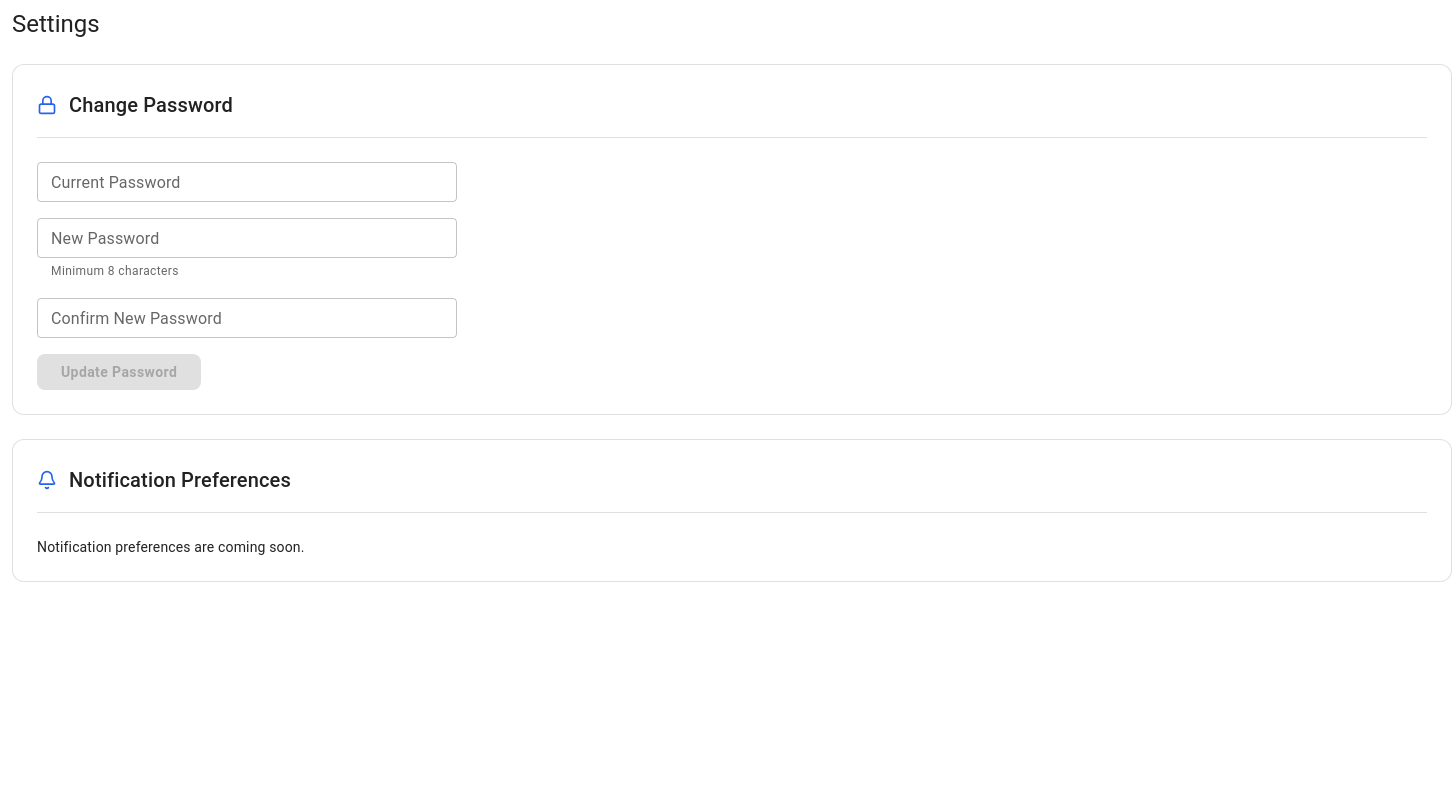
Settings Component › shows error for password less than 8 characters
Type "old12345" into the password field labelled "Current Password" at (247, 182), box [37,162,457,202]
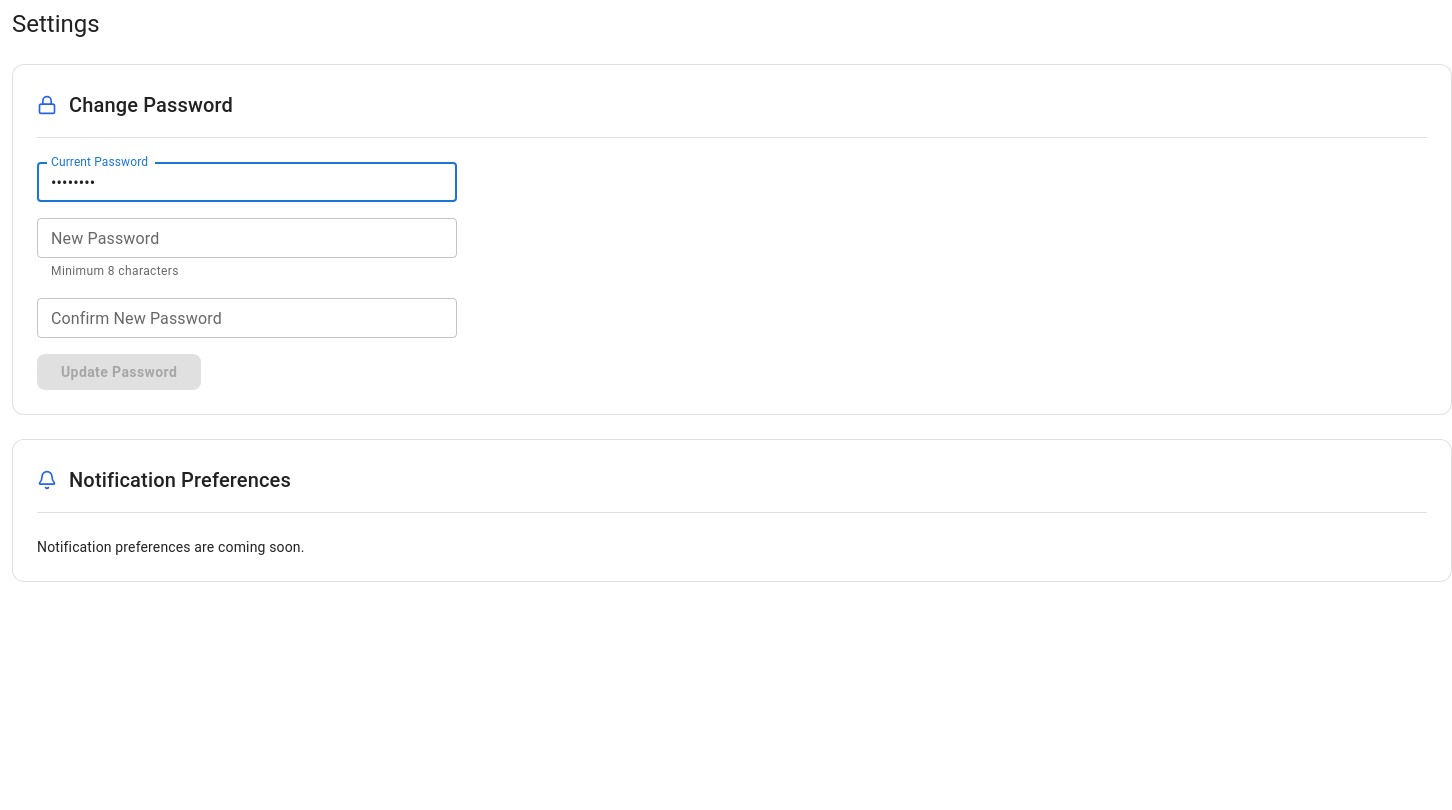
Type "123" into the password field labelled "New Password" at (247, 238), box [37,218,457,258]
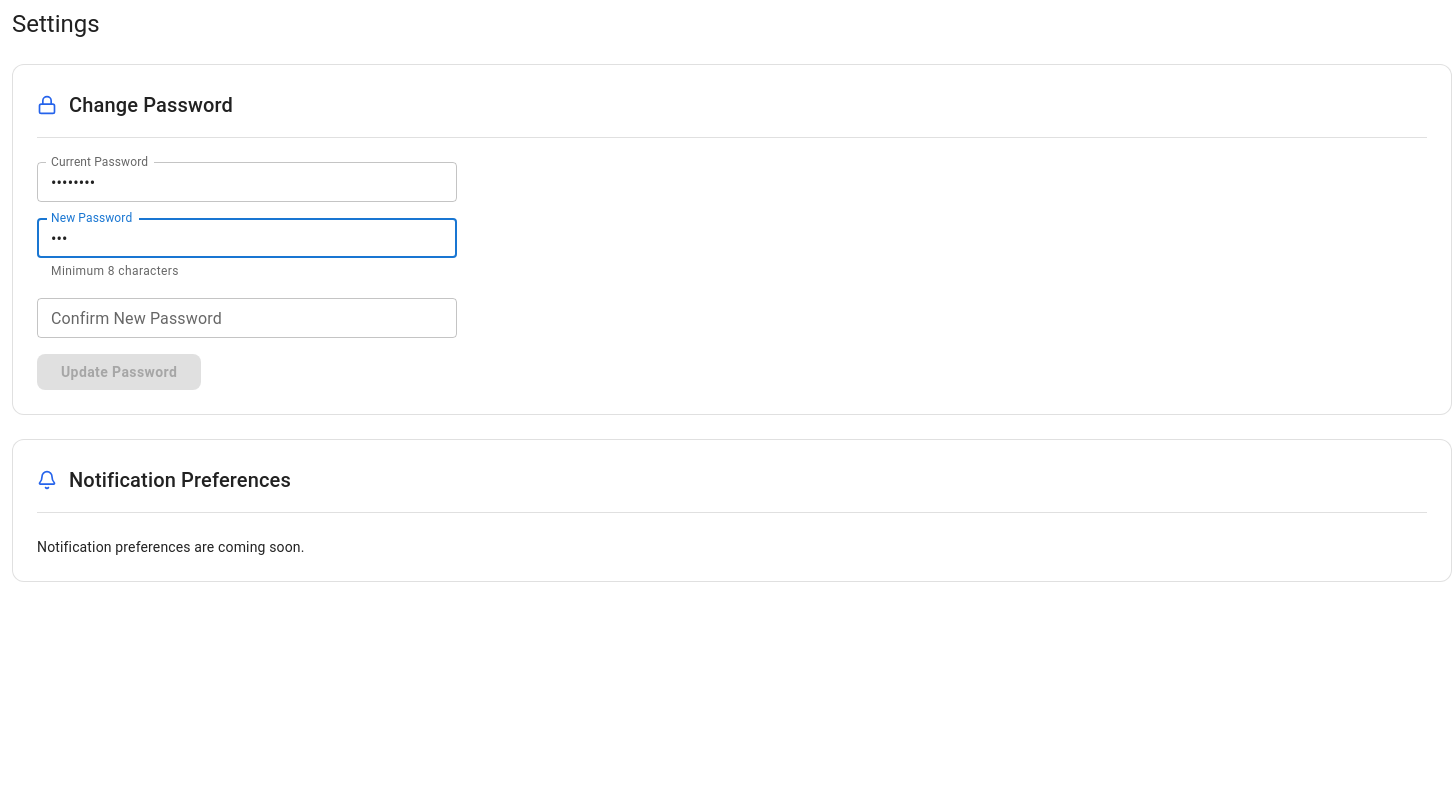
Type "123" into the password field labelled "Confirm New Password" at (247, 318), box [37,298,457,338]
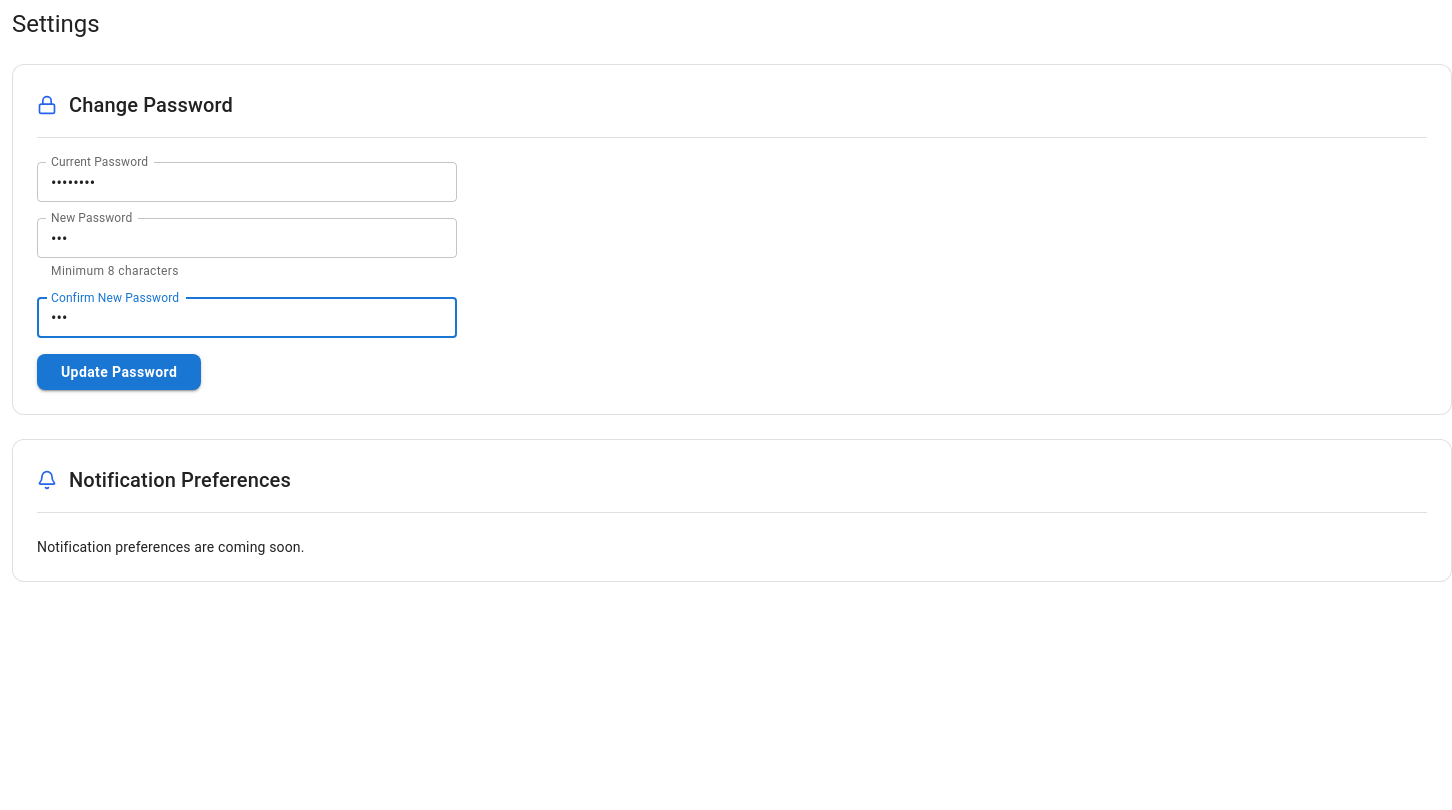
Click the button "Update Password" at (119, 372), box [37,354,201,390]
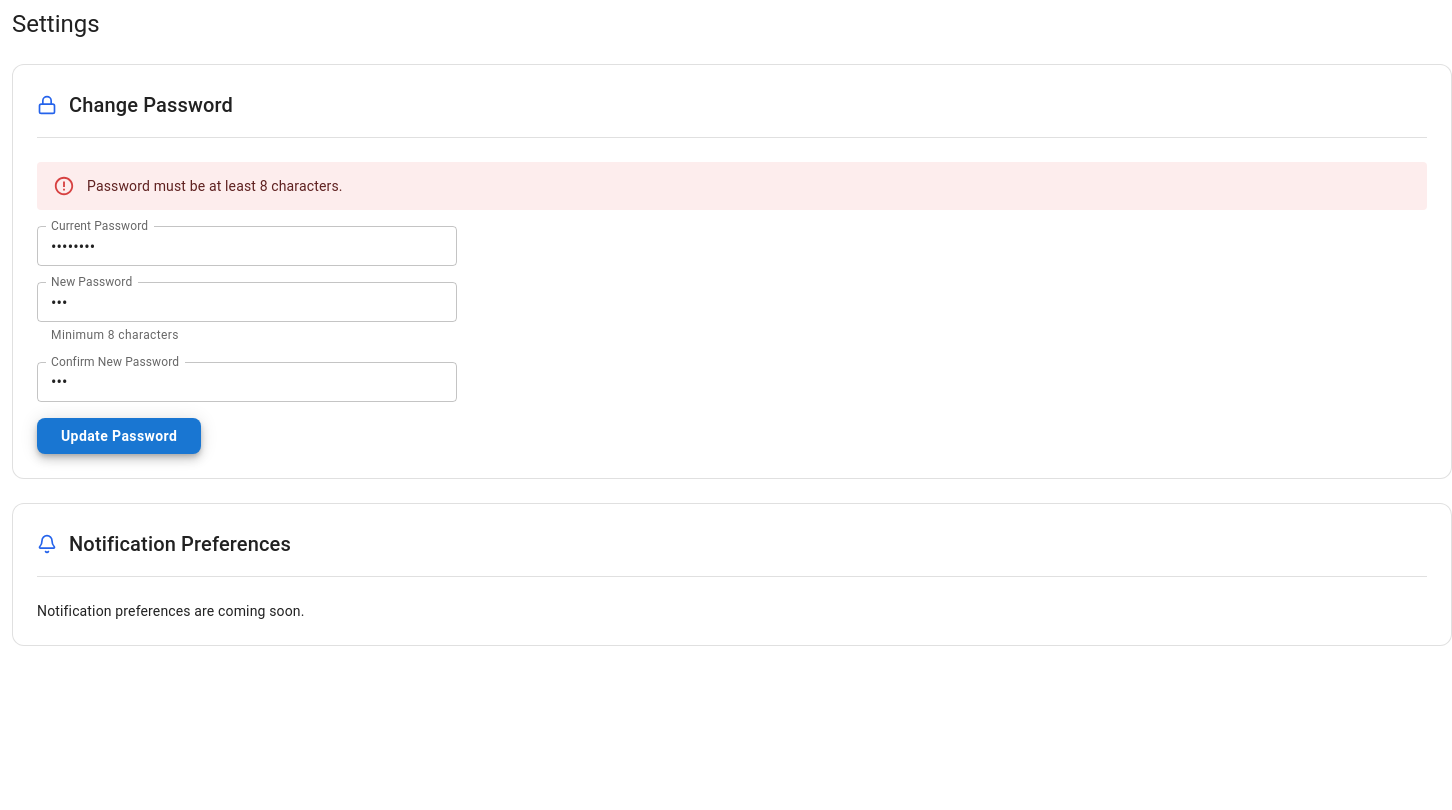
Result: the text "Password must be at least 8 characters." is shown at [87,178,343,194]
